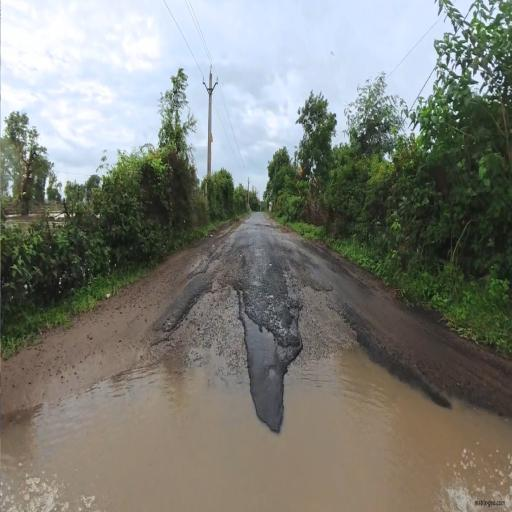ravelling: (162, 237, 387, 353)
